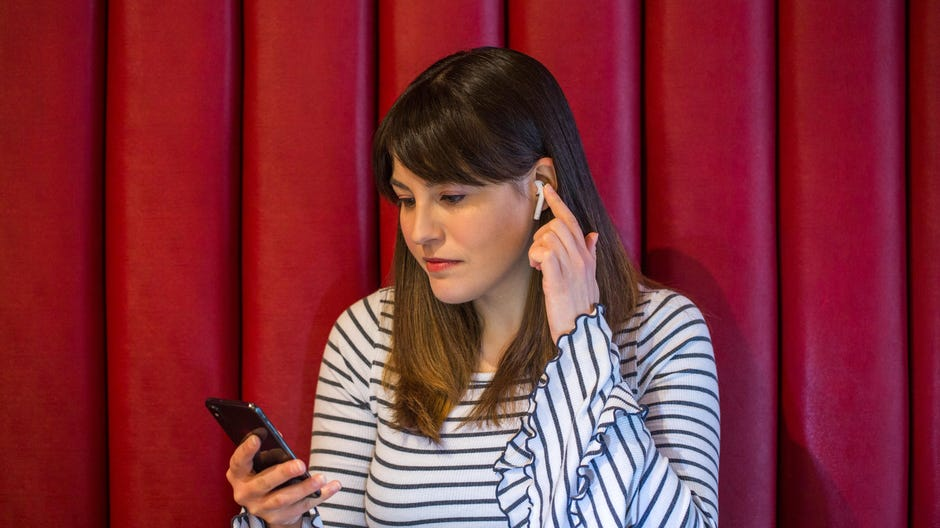earphone: (530, 157, 558, 212)
